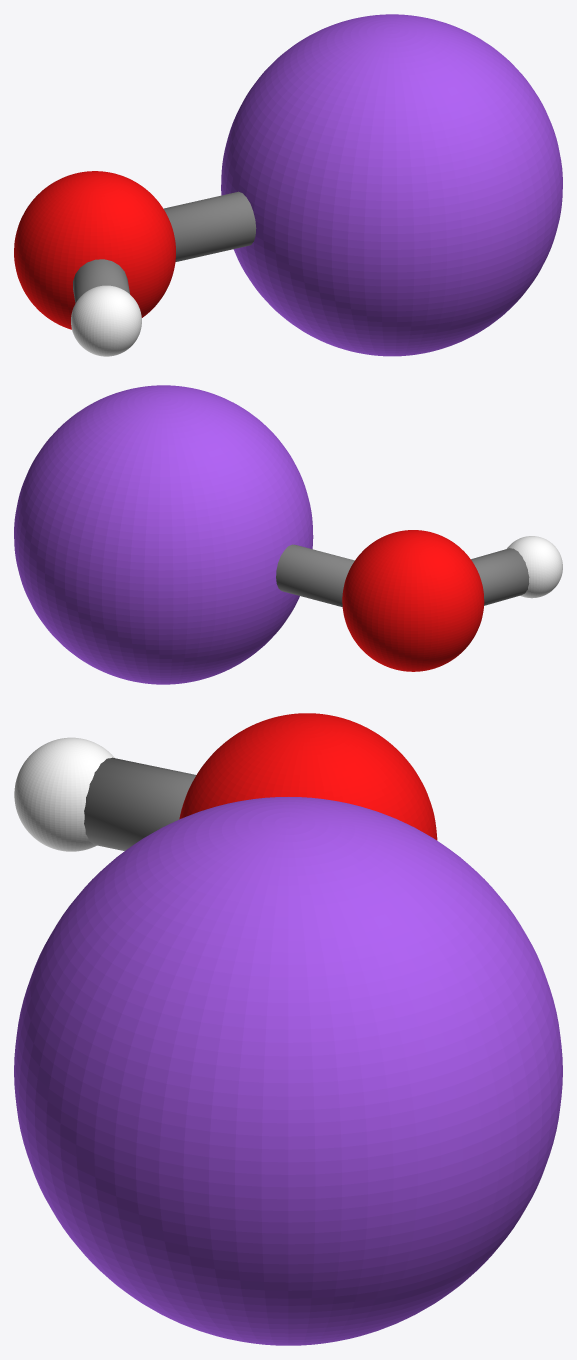
Rendered from HIDROXIDO SODIO.obj.
3 views of the same model, one above another, from view 1: azimuth 30°, elevation 25°; view 2: azimuth 150°, elevation 25°; view 3: azimuth 270°, elevation 25° (orthographic). The views are drawn at different scales.
Parts seen in each view (by area): view 1: Sodium_ball_Esfera.001, Oxygen_ball_Esfera, Stick_Cylinder_0000_Cilindro, Hydrogen_ball_Esfera.002, Stick_Cylinder_0001_Cilindro.001; view 2: Sodium_ball_Esfera.001, Oxygen_ball_Esfera, Stick_Cylinder_0000_Cilindro, Stick_Cylinder_0001_Cilindro.001, Hydrogen_ball_Esfera.002; view 3: Sodium_ball_Esfera.001, Oxygen_ball_Esfera, Hydrogen_ball_Esfera.002, Stick_Cylinder_0001_Cilindro.001.
Part boxes in pixels (x1,y1,x2,y2): Sodium_ball_Esfera.001: [221, 14, 562, 356]; Oxygen_ball_Esfera: [14, 171, 175, 329]; Stick_Cylinder_0000_Cilindro: [163, 191, 256, 262]; Hydrogen_ball_Esfera.002: [71, 285, 141, 356]; Stick_Cylinder_0001_Cilindro.001: [73, 259, 129, 303]; Sodium_ball_Esfera.001: [14, 385, 313, 684]; Oxygen_ball_Esfera: [342, 530, 484, 671]; Stick_Cylinder_0000_Cilindro: [276, 544, 354, 606]; Stick_Cylinder_0001_Cilindro.001: [471, 548, 529, 605]; Hydrogen_ball_Esfera.002: [507, 536, 562, 598]; Sodium_ball_Esfera.001: [14, 797, 562, 1345]; Oxygen_ball_Esfera: [179, 713, 437, 840]; Hydrogen_ball_Esfera.002: [14, 737, 114, 851]; Stick_Cylinder_0001_Cilindro.001: [84, 757, 196, 850].
Bounding box in the file's own units: 4.43 × 2.46 × 2.46.
